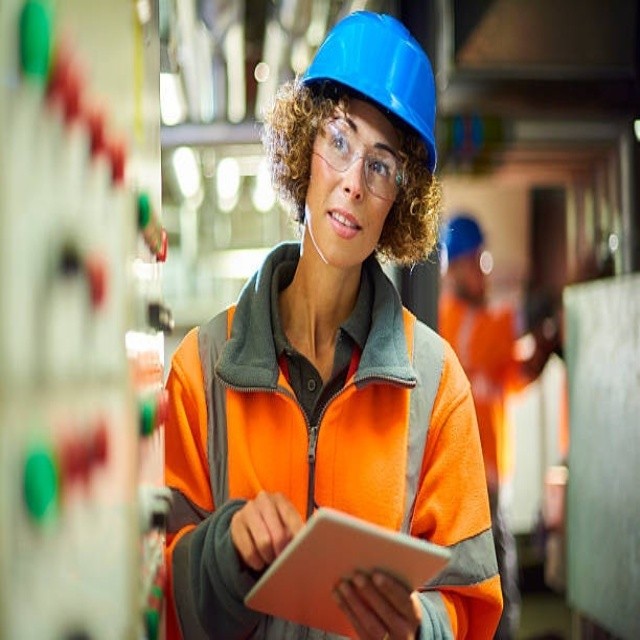Gafas: (313, 124, 408, 201)
Sin_guantes: (332, 566, 421, 640), (231, 489, 304, 574)
Sin_mascara: (322, 202, 367, 267)
